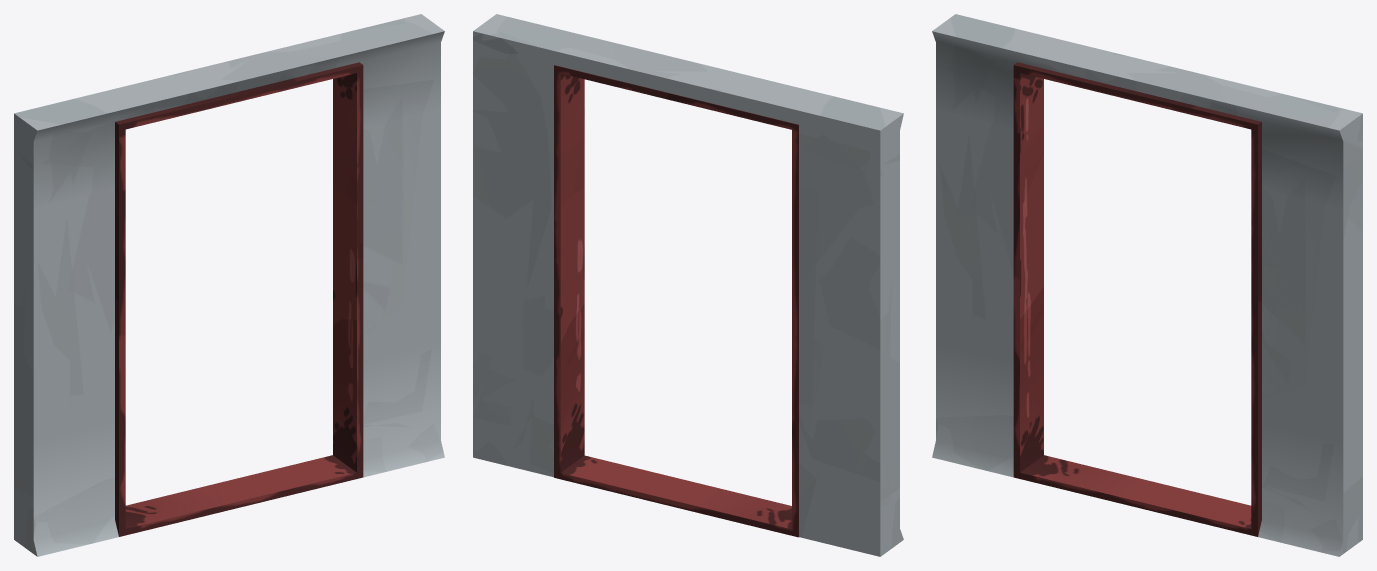
The model's file is Wall_Door_1.fbx.
The picture shows the model from 3 angles, left to right: view 1: azimuth 30°, elevation 25°; view 2: azimuth 150°, elevation 25°; view 3: azimuth 330°, elevation 25°; orthographic projection.
Visible parts, largest first — view 1: Wall_4, Door_Frame_1; view 2: Wall_4, Door_Frame_1; view 3: Wall_4, Door_Frame_1.
Part boxes in pixels (x1,y1,x2,y2): Wall_4: [14, 14, 444, 556]; Door_Frame_1: [115, 62, 363, 536]; Wall_4: [473, 14, 903, 556]; Door_Frame_1: [554, 65, 798, 537]; Wall_4: [932, 14, 1362, 556]; Door_Frame_1: [1013, 62, 1261, 536].
Size of the model in its own units: 2 by 2 by 0.2039.
